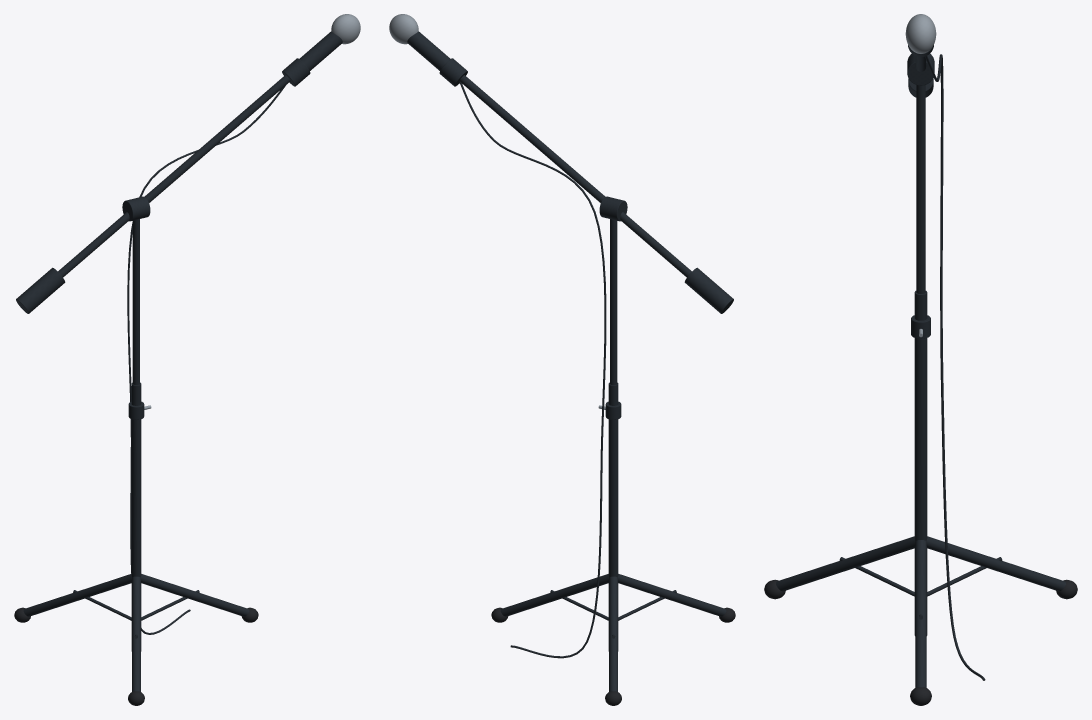
Rendered from microphone-stand-v1.glb.
The picture shows the model from 3 angles, left to right: view 1: azimuth 30°, elevation 25°; view 2: azimuth 150°, elevation 25°; view 3: azimuth 270°, elevation 25°; orthographic projection. The views are drawn at different scales.
Visible parts, largest first — view 1: Microphone boom, Microphone stand lower tube, Microphone cable, Microphone stand telescoping upper, Microphone stand folding leg 0, Microphone stand folding leg 1, Boom counterweight, Microphone stand folding leg 2, Microphone body, Microphone mesh capsule, Microphone boom pivot; view 2: Microphone boom, Microphone stand lower tube, Microphone cable, Microphone stand telescoping upper, Microphone stand folding leg 2, Microphone stand folding leg 0, Boom counterweight, Microphone stand folding leg 1, Microphone body, Microphone mesh capsule, Microphone boom pivot; view 3: Microphone stand lower tube, Microphone cable, Microphone stand telescoping upper, Microphone stand folding leg 0, Microphone stand folding leg 2, Microphone stand folding leg 1, Microphone mesh capsule, Microphone boom pivot.
Part boxes in pixels (x1,y1,x2,y2): Microphone boom: [58, 75, 290, 277]; Microphone stand lower tube: [131, 382, 141, 651]; Microphone cable: [127, 85, 285, 634]; Microphone stand telescoping upper: [132, 219, 139, 384]; Microphone stand folding leg 0: [140, 574, 249, 616]; Microphone stand folding leg 1: [23, 574, 131, 616]; Boom counterweight: [16, 267, 65, 313]; Microphone stand folding leg 2: [132, 576, 140, 691]; Microphone body: [299, 31, 342, 70]; Microphone mesh capsule: [331, 14, 360, 44]; Microphone boom pivot: [122, 196, 150, 221]; Microphone boom: [459, 75, 691, 277]; Microphone stand lower tube: [608, 382, 618, 651]; Microphone cable: [459, 81, 606, 658]; Microphone stand telescoping upper: [610, 219, 617, 384]; Microphone stand folding leg 2: [618, 574, 726, 616]; Microphone stand folding leg 0: [500, 574, 609, 616]; Boom counterweight: [684, 267, 733, 313]; Microphone stand folding leg 1: [609, 576, 617, 691]; Microphone body: [407, 31, 450, 70]; Microphone mesh capsule: [389, 14, 418, 44]; Microphone boom pivot: [599, 196, 627, 221]; Microphone stand lower tube: [914, 291, 927, 635]; Microphone cable: [925, 54, 985, 680]; Microphone stand telescoping upper: [916, 85, 925, 293]; Microphone stand folding leg 0: [915, 540, 926, 687]; Microphone stand folding leg 2: [776, 536, 915, 591]; Microphone stand folding leg 1: [926, 536, 1065, 591]; Microphone mesh capsule: [905, 14, 936, 53]; Microphone boom pivot: [907, 53, 934, 85].
Bounding box in the file's own units: 0.9614 × 1.58 × 0.5963.
Materials: 3 (3 with a texture image).
